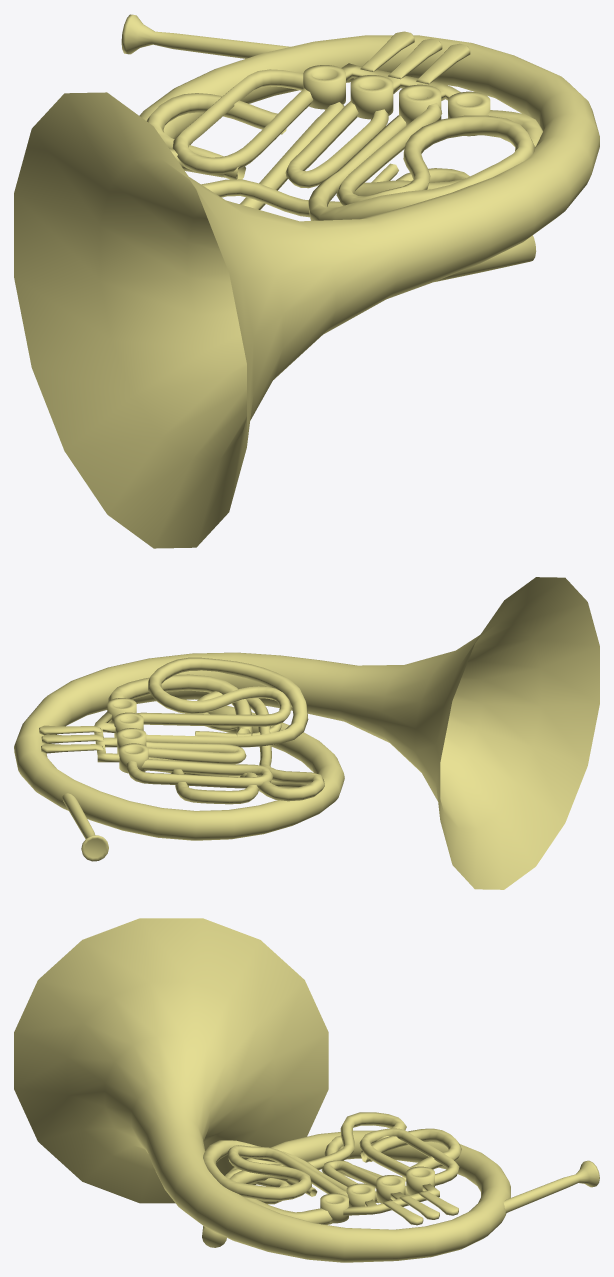
Rendered from horn.glb.
3 views of the same model, one above another, from view 1: azimuth 30°, elevation 25°; view 2: azimuth 150°, elevation 25°; view 3: azimuth 270°, elevation 25° (orthographic). The views are drawn at different scales.
Parts seen in each view (by area): view 1: horn; view 2: horn; view 3: horn.
Boxes of the visible parts, x1,y1,x2,y2 form: horn: (14, 14, 599, 548); horn: (14, 577, 599, 889); horn: (14, 918, 599, 1262).
Bounding box in the file's own units: 0.7358 × 0.5215 × 0.9708.
